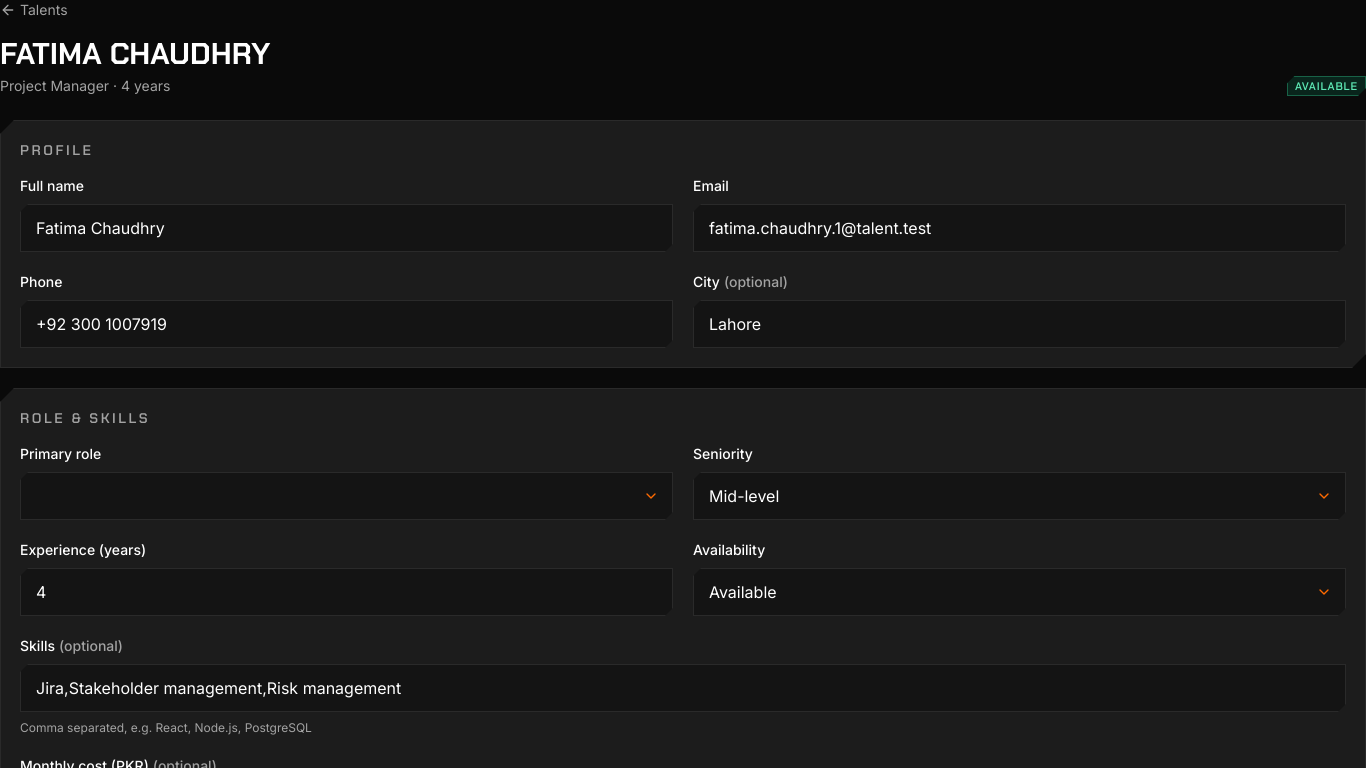
talents › edits and deactivates a talent (two clicks)
Later steps or results of the test are not shown.
Replace the text in the field labelled "City(optional)" with "Multan" at (1020, 324), box x1=693 y1=300 x2=1346 y2=348
(page scrolled)
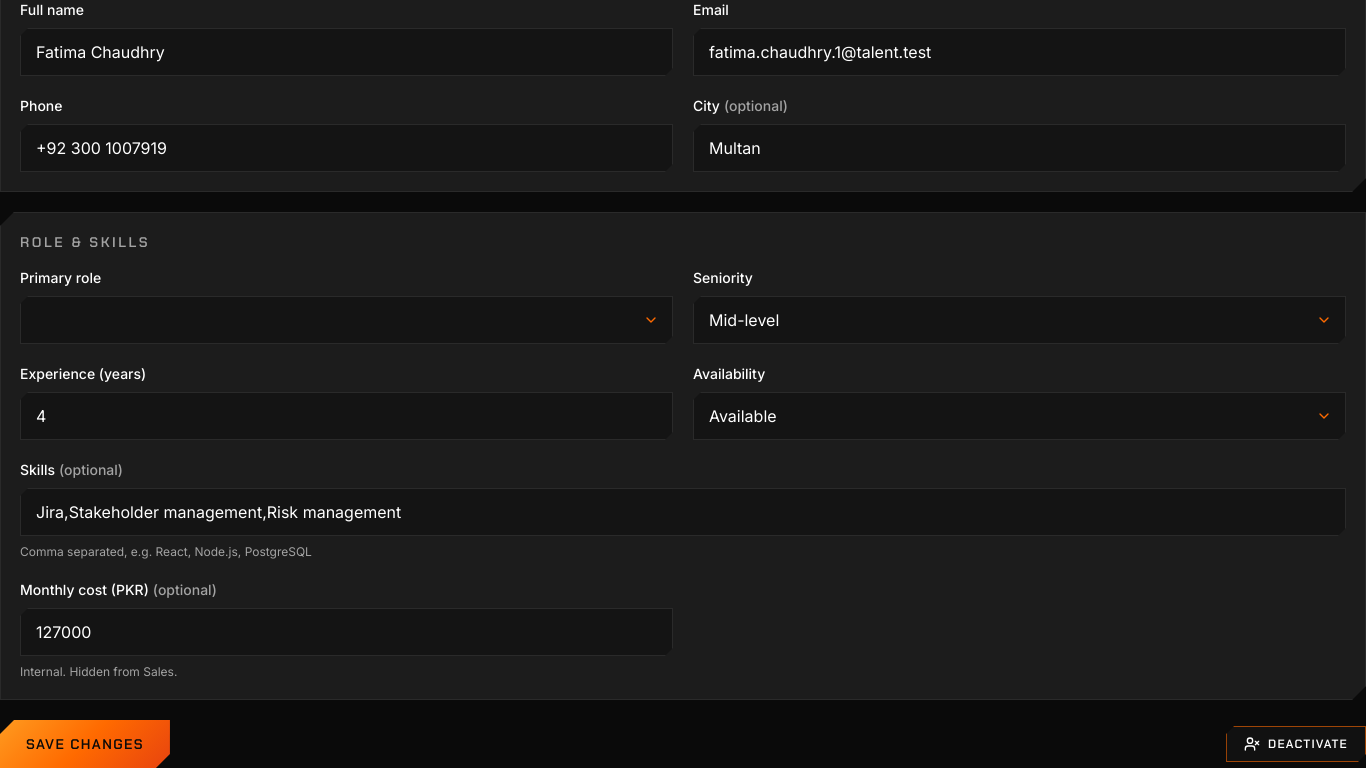
Click the button "Save changes" at (85, 744), box x1=0 y1=720 x2=170 y2=767
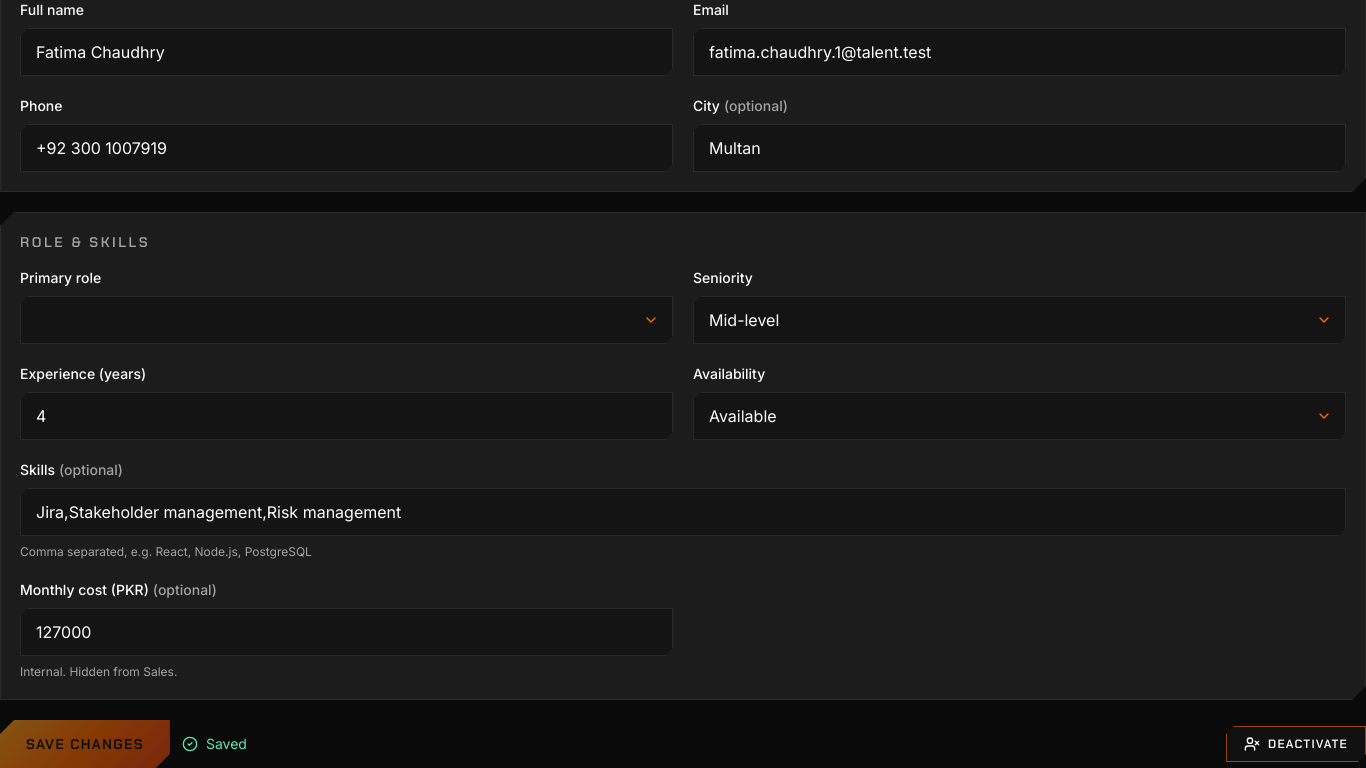
Result: the message reads "Saved" at x1=206 y1=735 x2=247 y2=752
